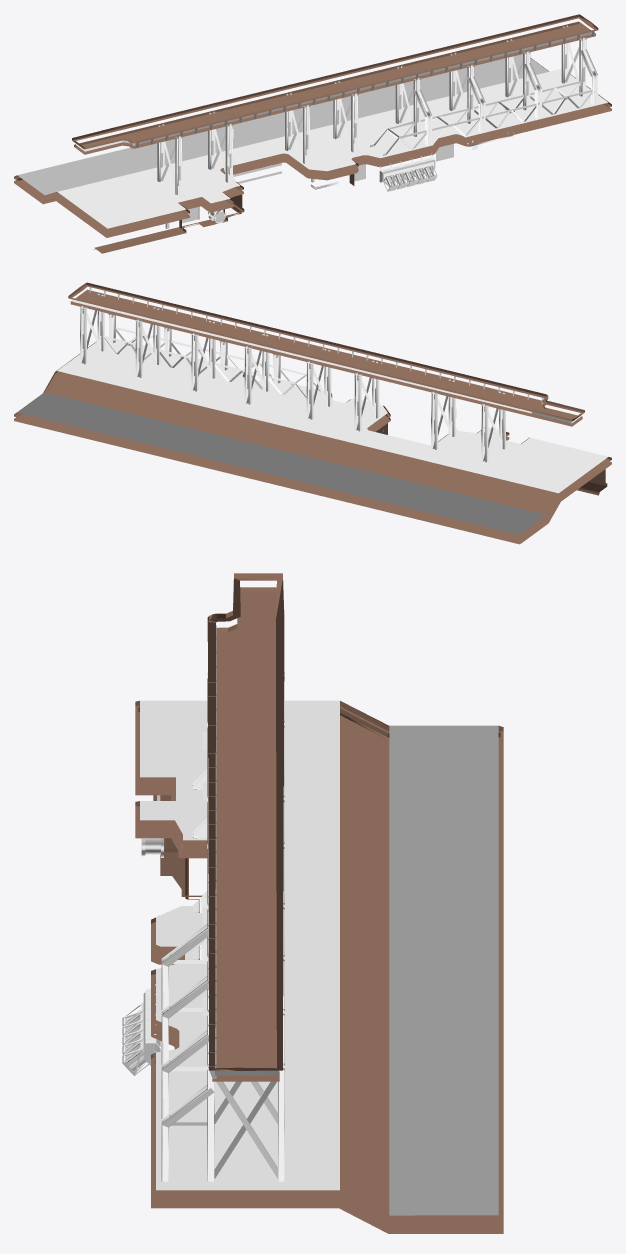
The model's file is construction_frame_a.glb.
The picture shows the model from 3 angles, top to bottom: view 1: azimuth 30°, elevation 25°; view 2: azimuth 150°, elevation 25°; view 3: azimuth 270°, elevation 25°; orthographic projection. The views are drawn at different scales.
Size of the model in its own units: 360 by 63.59 by 117.
